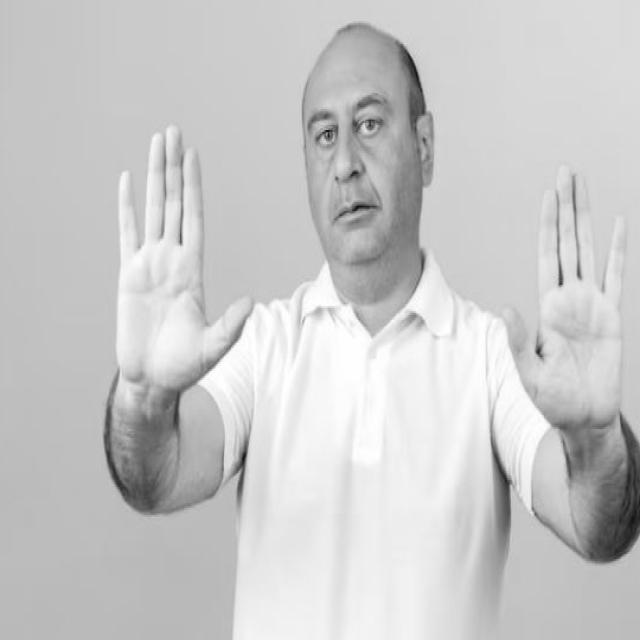stop: (108, 115, 259, 402), (495, 154, 633, 440)
